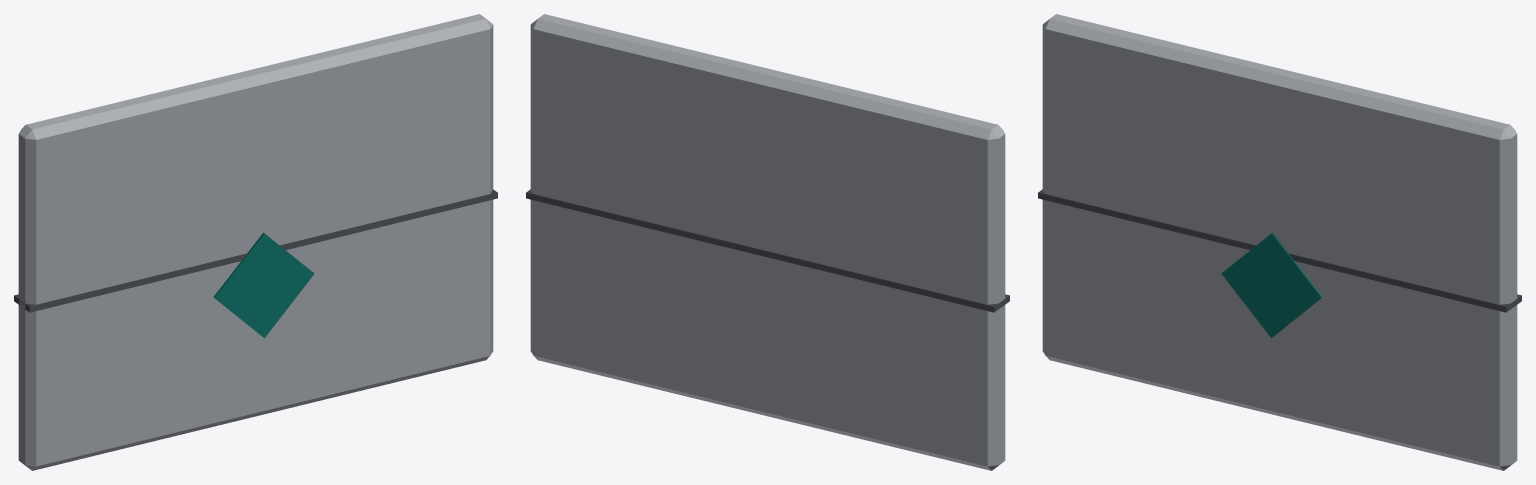
The model's file is held_laptop_01.glb.
3 views of the same model, side by side, from view 1: azimuth 30°, elevation 25°; view 2: azimuth 150°, elevation 25°; view 3: azimuth 330°, elevation 25° (orthographic).
Visible parts, largest first — view 1: held_laptop_01_mesh; view 2: held_laptop_01_mesh; view 3: held_laptop_01_mesh.
Part boxes in pixels (x1,y1,x2,y2): held_laptop_01_mesh: (14, 14, 497, 470); held_laptop_01_mesh: (526, 14, 1009, 470); held_laptop_01_mesh: (1038, 14, 1521, 470).
Bounding box in the file's own units: 0.33 × 0.23 × 0.02.
1 material, 1 textured.
